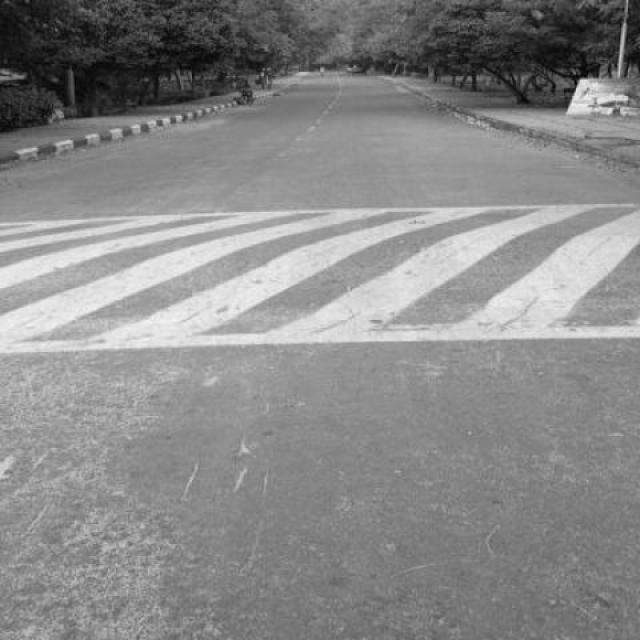Speed Bump: (1, 203, 639, 364)
